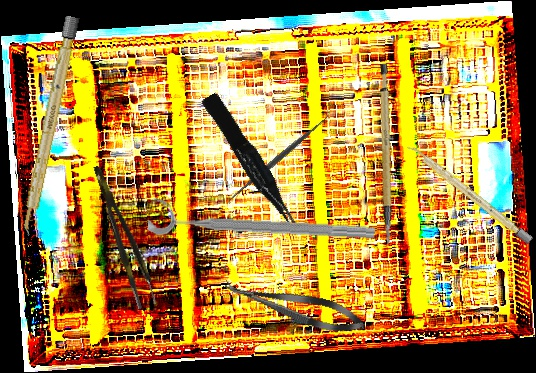Fixation Ring: (147, 196, 376, 246)
Micro Scissor: (220, 271, 369, 341)
Scalpel Handle: (19, 15, 80, 237), (405, 142, 534, 245), (355, 62, 413, 247)
Spatula Surgical: (222, 108, 336, 207)
Tissue Forceps: (200, 88, 303, 239), (91, 161, 159, 310)
